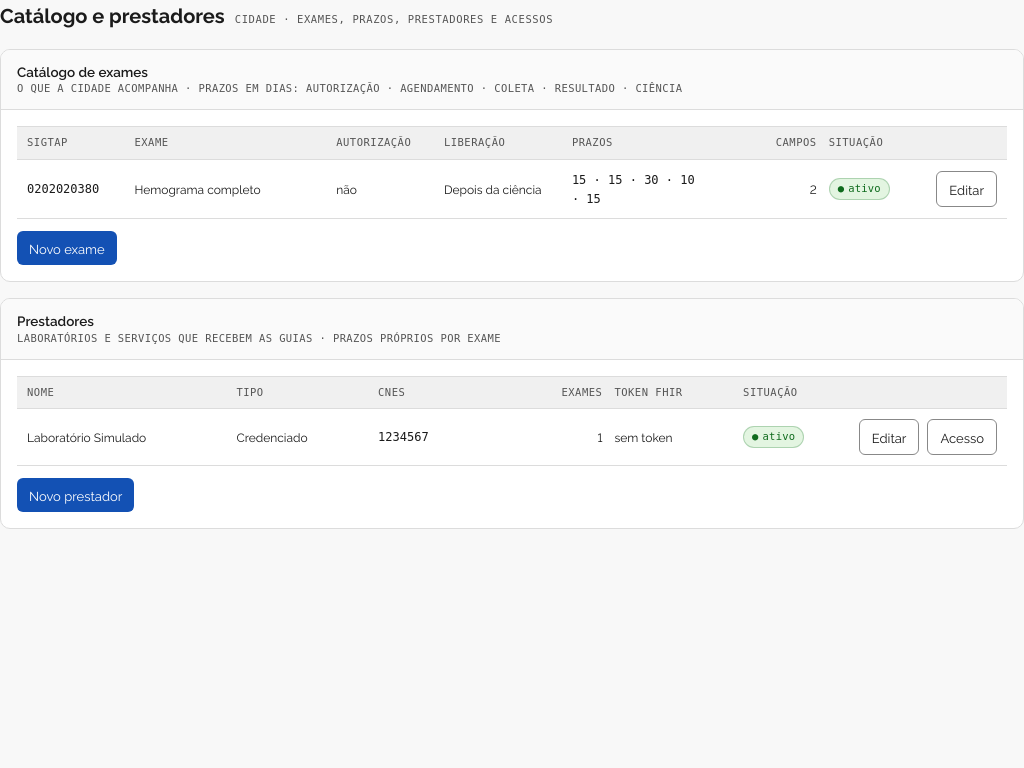
Test: ExamsAdmin — prestadores › depois de gerar e Já guardei, o acesso relido oferece Trocar (com o aviso) e Revogar
Click the button with aria-label "Acesso de Laboratório Simulado".
click(962, 437)  # box [927,419,997,455]
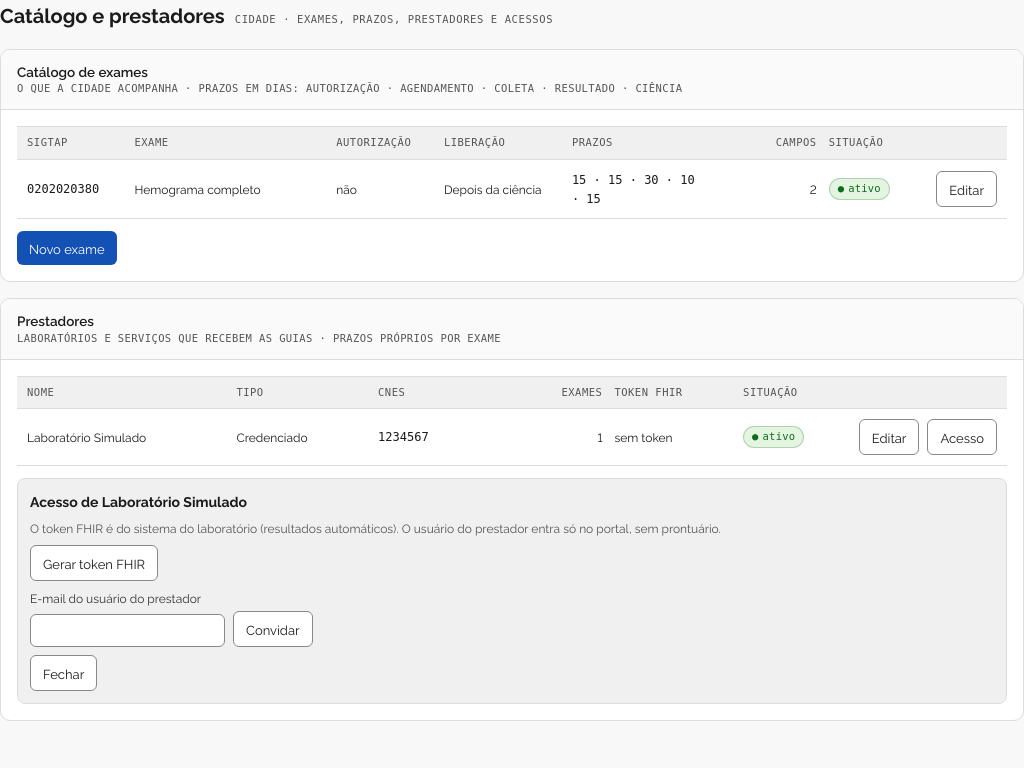
Click the button "Gerar token FHIR".
click(94, 563)  # box [30,545,158,581]
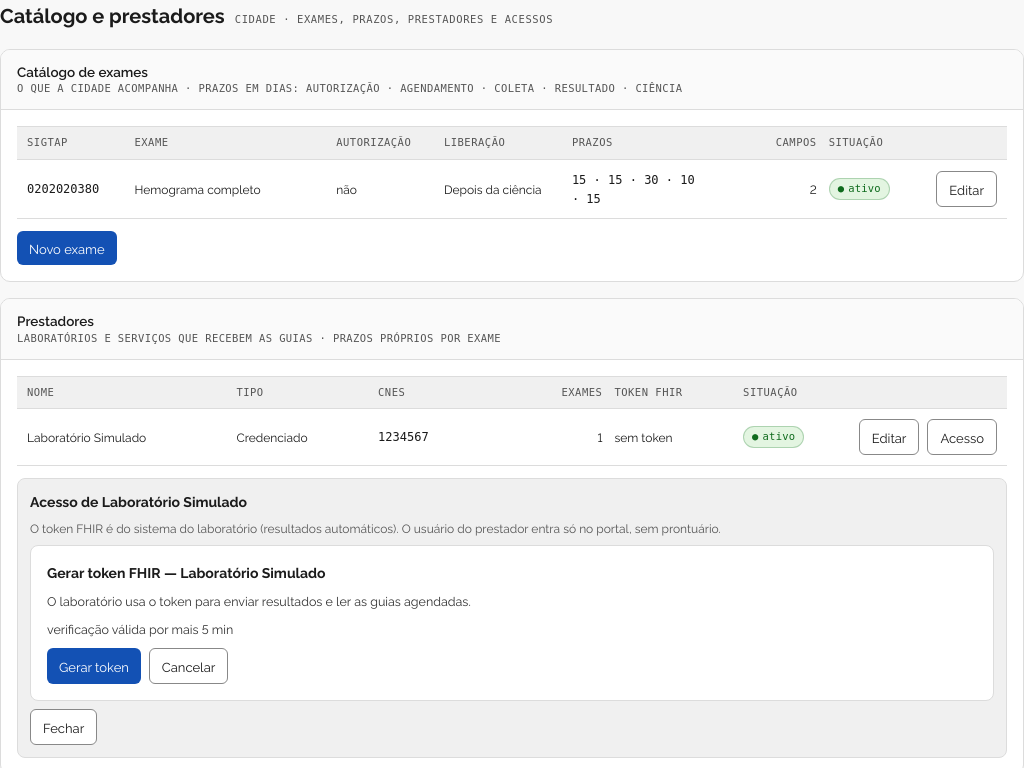
Click the button "Gerar token".
click(94, 666)  # box [47,648,141,684]
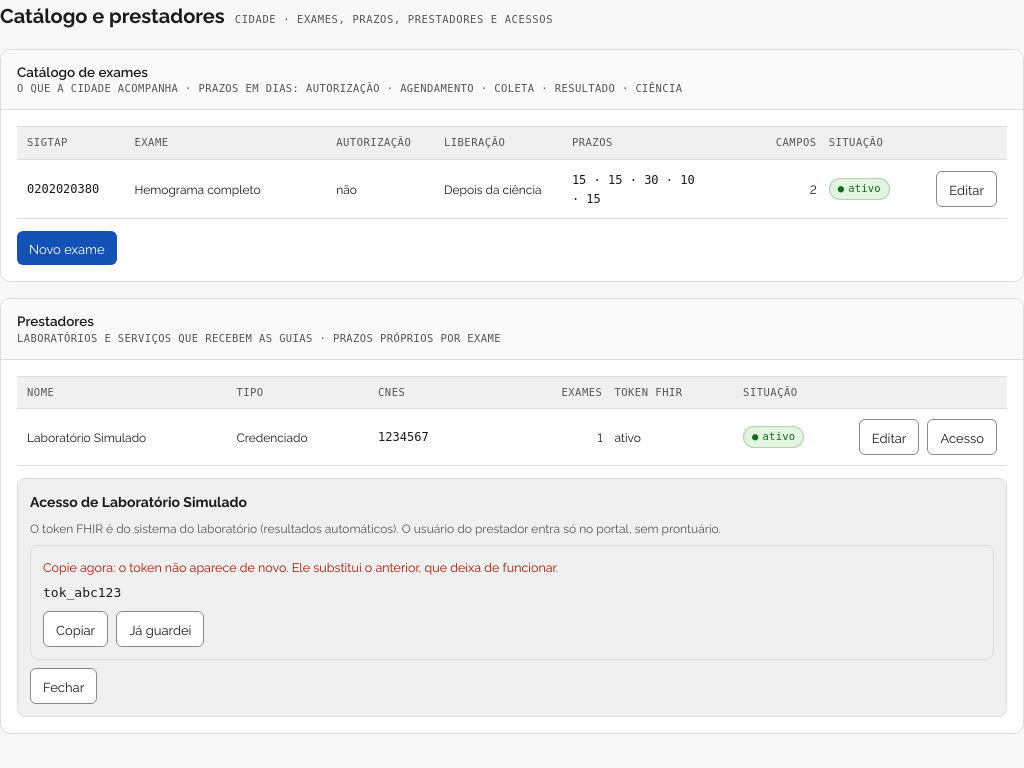
Check: the text "tok_abc123" is shown, box [43,585,121,600]
Click the button "Já guardei".
click(160, 629)  # box [116,611,204,647]
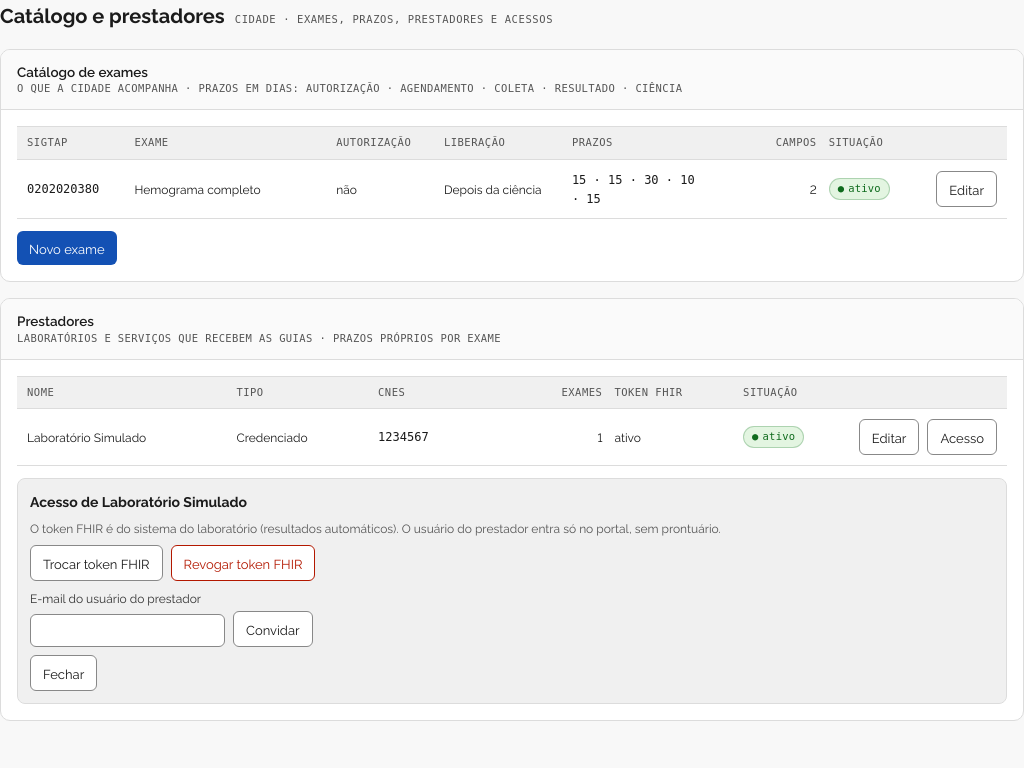
Check: the text "Gerar token FHIR" is not shown
Check: the button "Revogar token FHIR" is shown, box [171,545,315,581]
Click the button "Trocar token FHIR".
click(96, 563)  # box [30,545,163,581]
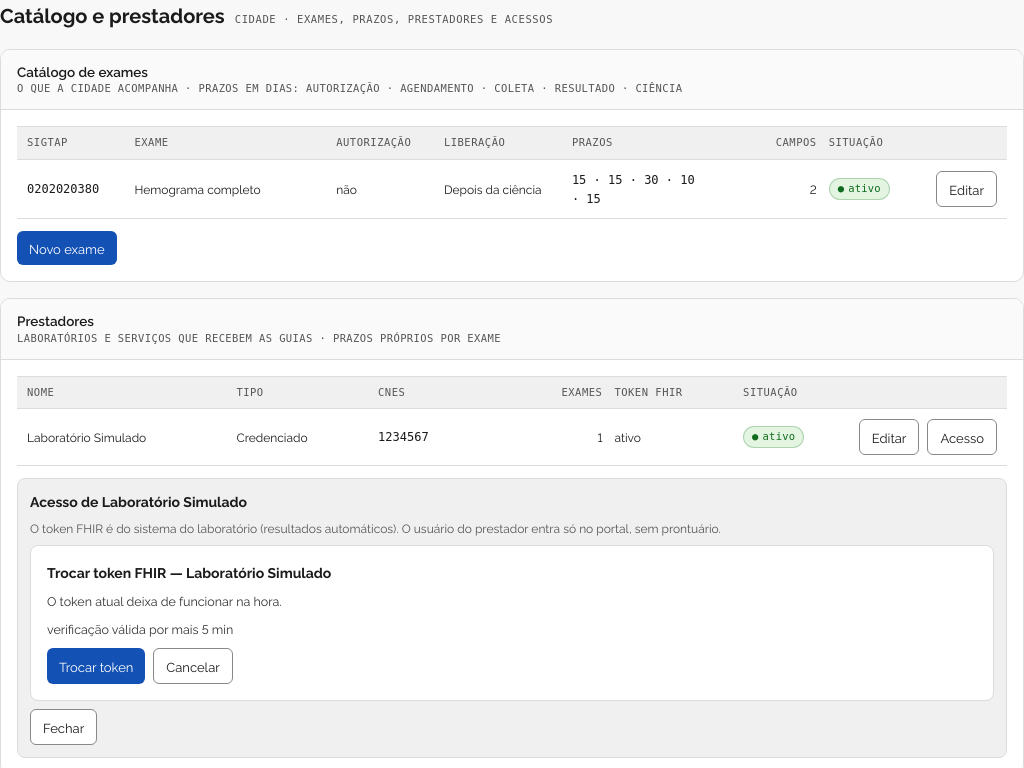
Check: the text "tok_abc123" is not shown
Check: the text "O token atual deixa de funcionar na hora." is shown, box [47,592,282,609]
